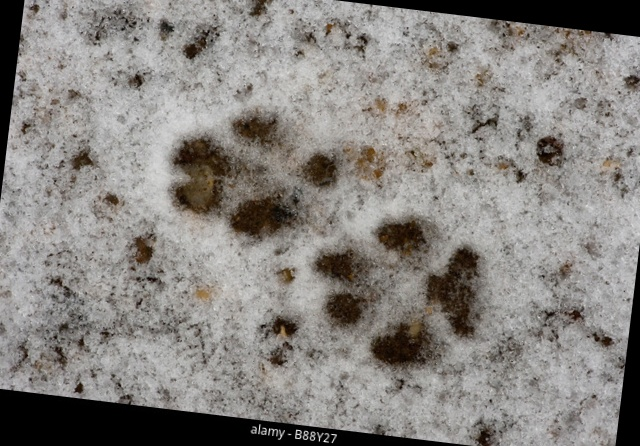fox: (128, 74, 517, 388)
